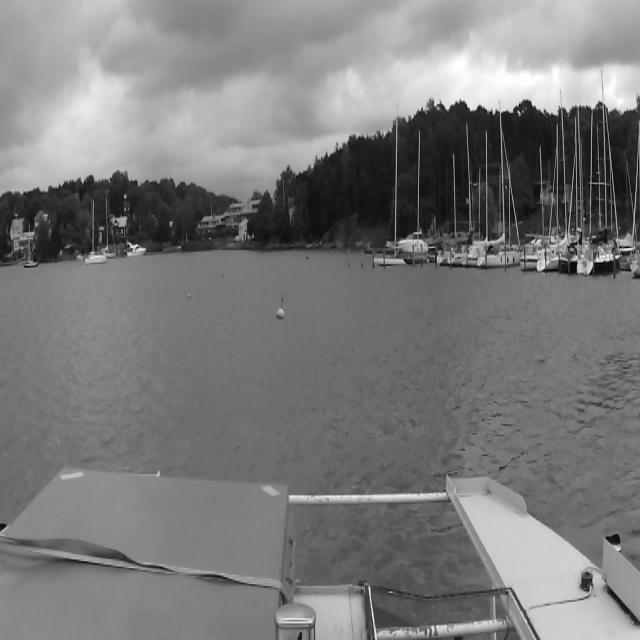ship: (374, 119, 428, 266), (544, 87, 586, 276), (588, 70, 624, 274), (479, 99, 519, 269), (436, 120, 474, 267), (83, 195, 107, 265), (25, 222, 39, 270), (126, 242, 146, 260)
